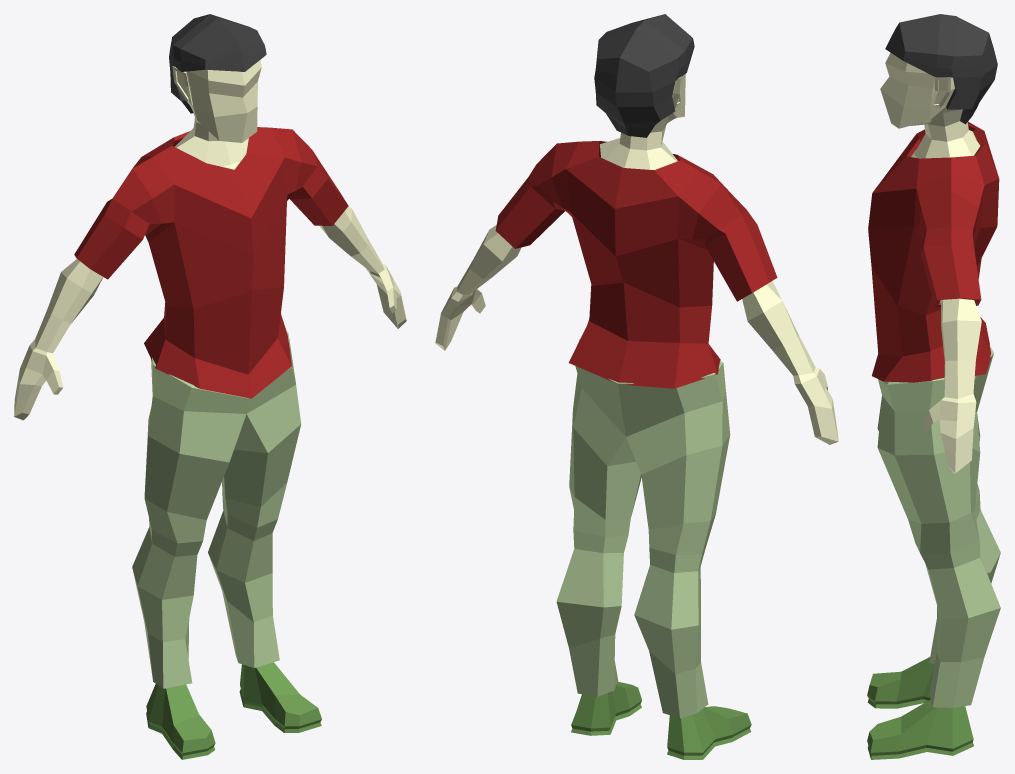
The model's file is custumor_male_1.fbx.
The picture shows the model from 3 angles, left to right: view 1: azimuth 30°, elevation 25°; view 2: azimuth 150°, elevation 25°; view 3: azimuth 270°, elevation 25°; orthographic projection. The views are drawn at different scales.
Parts seen in each view (by area): view 1: Cube.001, Cube.003, Cube, Cube.002; view 2: Cube.003, Cube.001, Cube, Cube.002; view 3: Cube.001, Cube.003, Cube, Cube.002.
Part boxes in pixels (<box>): Cube.001: <box>74,127,348,398</box>; Cube.003: <box>132,332,301,688</box>; Cube: <box>14,60,406,759</box>; Cube.002: <box>169,14,266,113</box>; Cube.003: <box>556,339,730,718</box>; Cube.001: <box>495,141,777,388</box>; Cube: <box>435,74,838,759</box>; Cube.002: <box>594,14,694,137</box>; Cube.001: <box>868,121,999,382</box>; Cube.003: <box>877,345,1000,707</box>; Cube: <box>867,52,981,759</box>; Cube.002: <box>885,14,997,124</box>.
Size of the model in its own units: 170 by 289 by 49.28.
